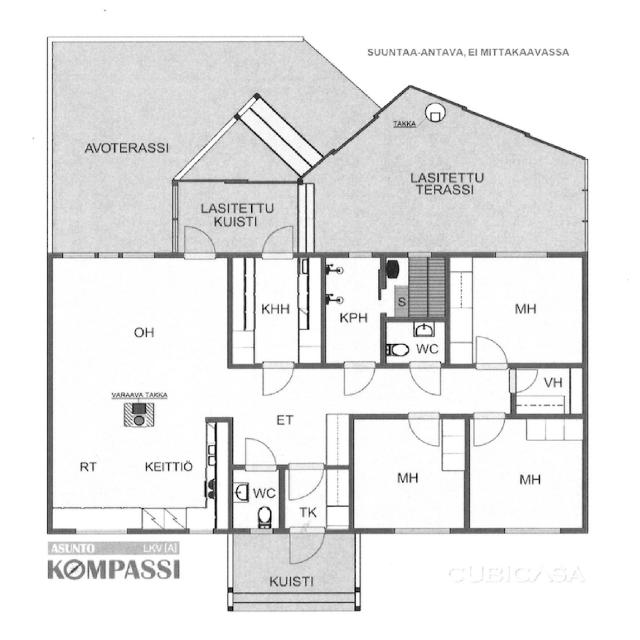door: (408, 360, 453, 400), (338, 357, 374, 404), (472, 330, 508, 373), (286, 527, 324, 565), (286, 459, 322, 499), (261, 363, 299, 398), (261, 224, 298, 259), (473, 416, 509, 448), (510, 368, 547, 398), (244, 438, 276, 471), (180, 227, 207, 256), (408, 415, 439, 439)
window: (492, 521, 562, 537), (399, 522, 454, 541), (489, 248, 554, 260), (70, 523, 127, 535)
zone: (48, 257, 230, 531), (447, 249, 580, 370), (348, 412, 468, 535), (466, 417, 581, 530), (226, 250, 327, 366), (320, 258, 379, 362), (233, 471, 287, 528)
